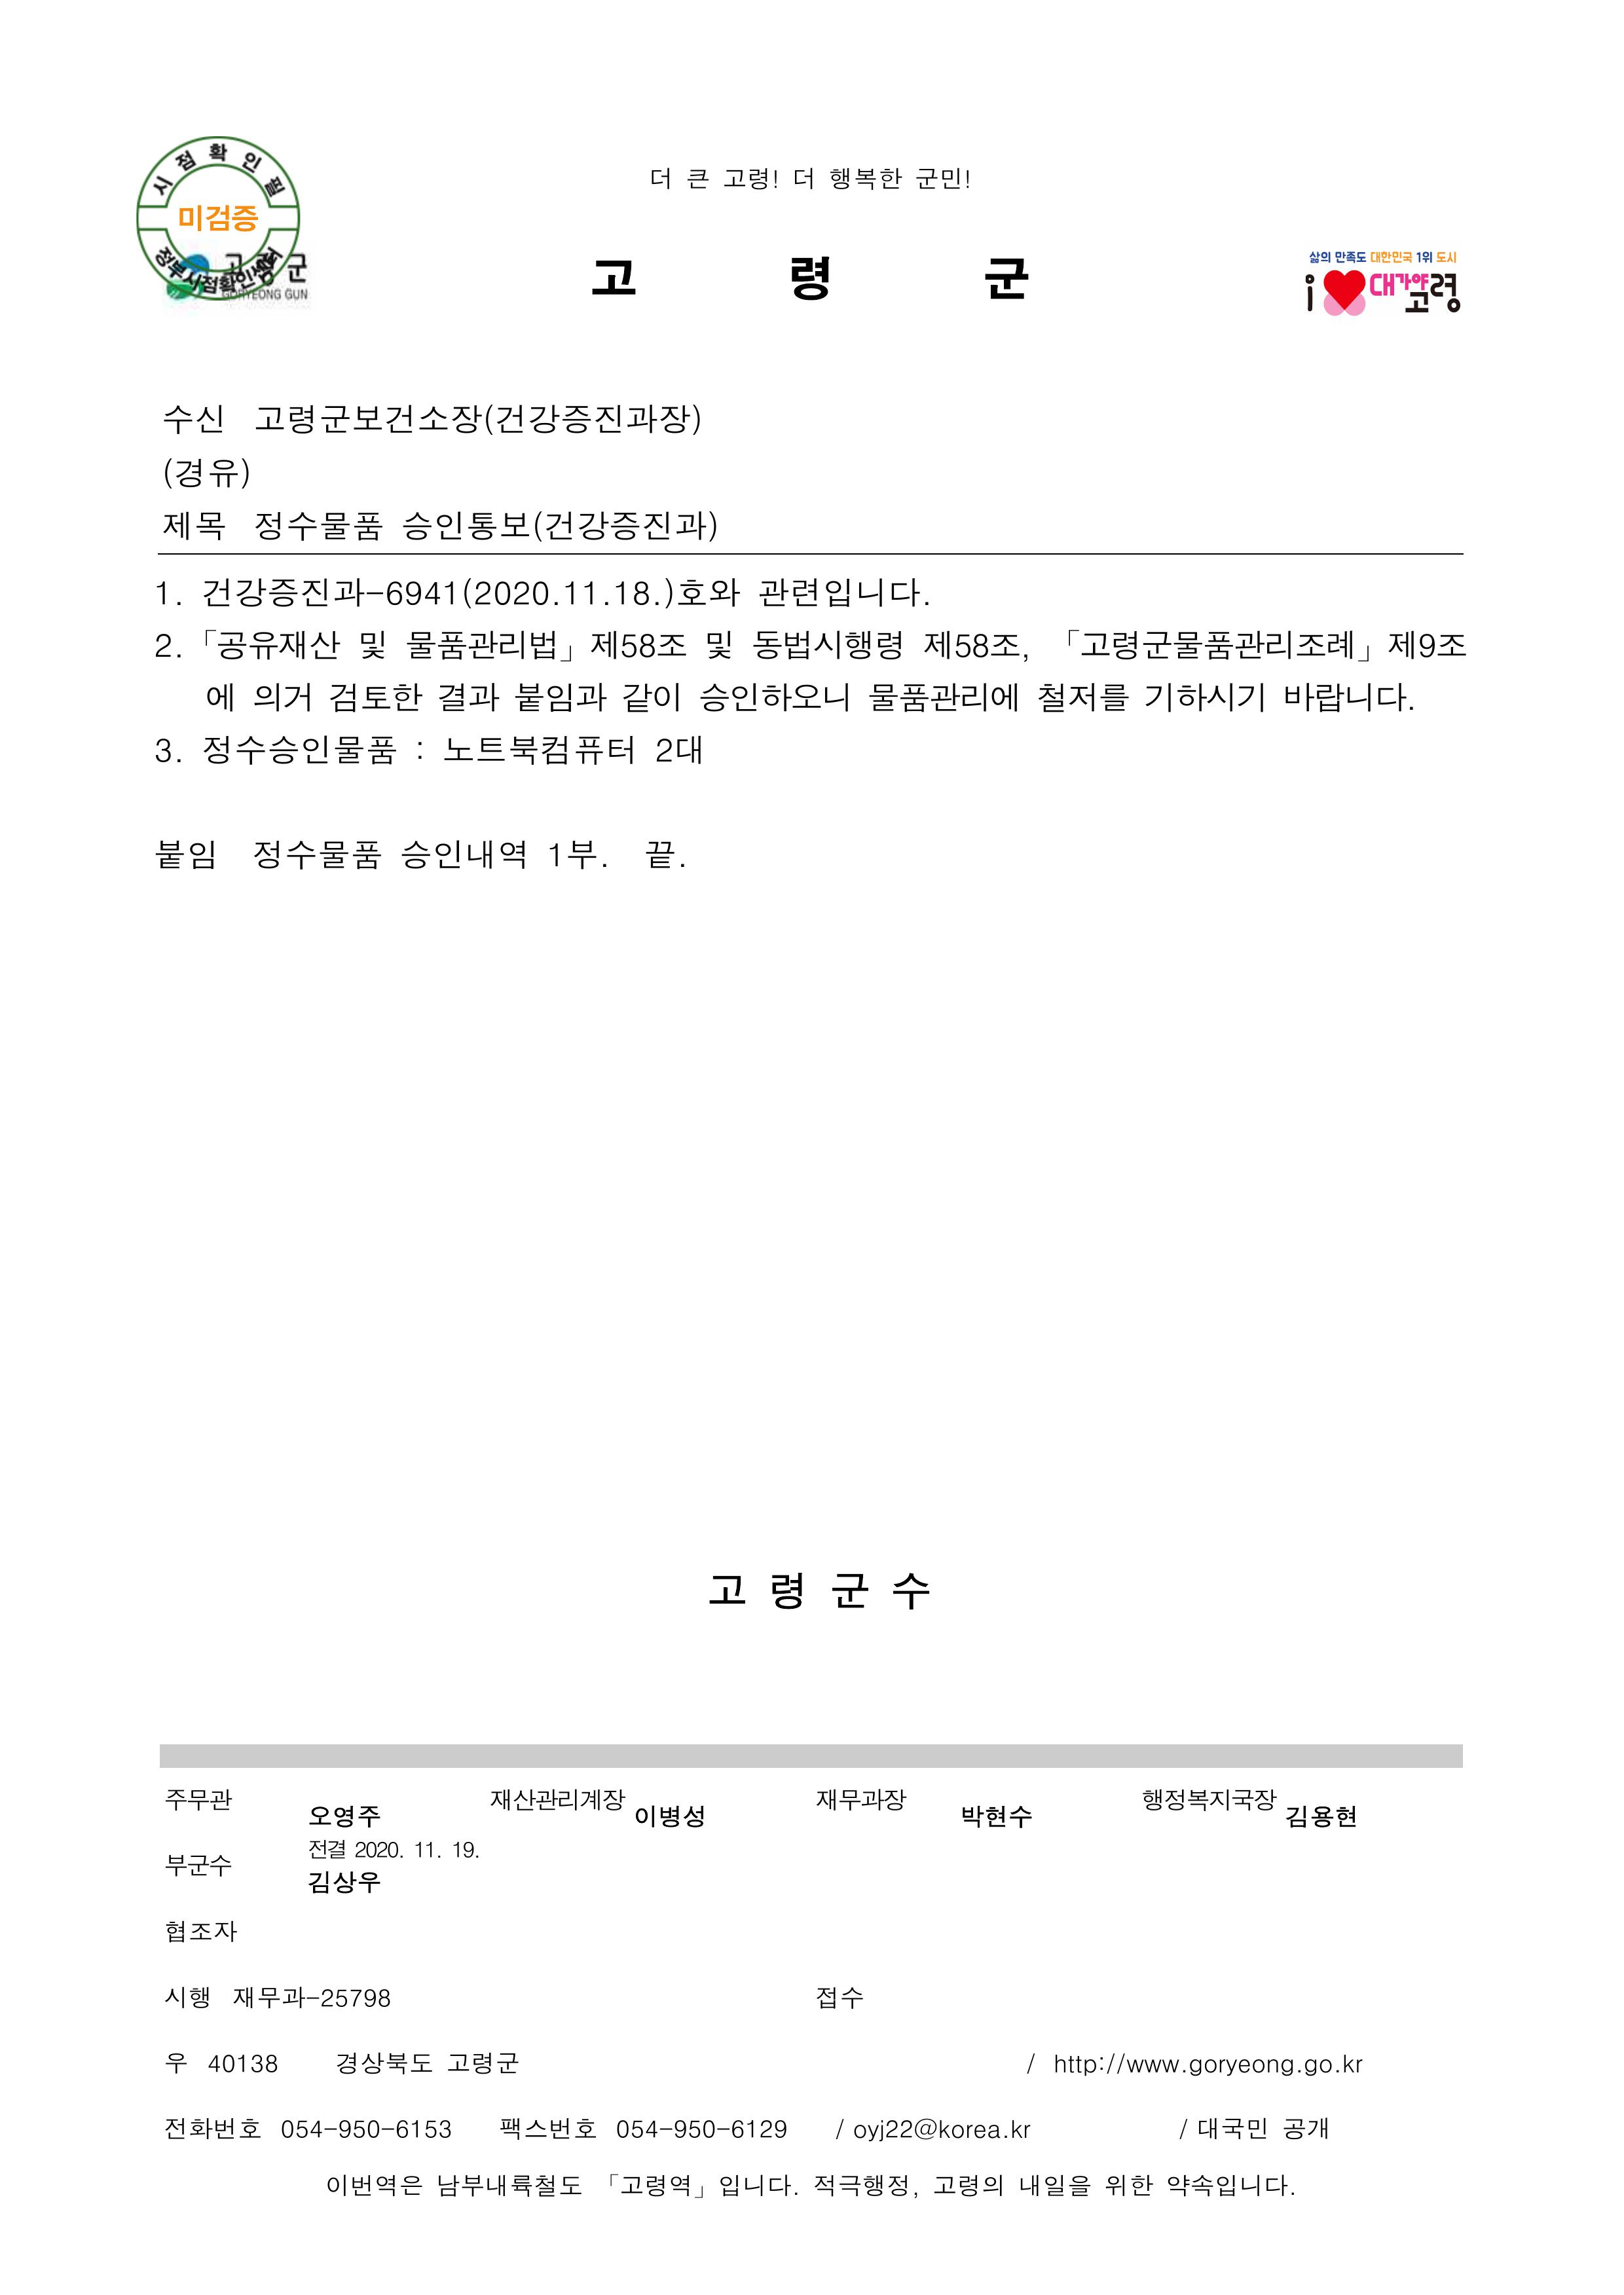t: (255, 401, 703, 438), (397, 506, 721, 545), (1062, 624, 1359, 662), (383, 573, 656, 610), (197, 731, 397, 771), (441, 731, 634, 771), (197, 573, 383, 613), (756, 573, 924, 610), (696, 678, 849, 717), (868, 678, 1021, 717), (404, 627, 562, 662), (749, 627, 903, 662), (251, 835, 383, 875), (786, 255, 893, 304), (397, 835, 527, 875), (1280, 678, 1413, 717), (251, 506, 383, 545), (707, 1571, 817, 1617), (824, 1571, 935, 1617), (434, 2168, 584, 2202), (211, 627, 344, 662), (1162, 2168, 1297, 2202), (1366, 269, 1462, 315), (1141, 678, 1265, 713), (1137, 1785, 1280, 1815), (228, 1987, 394, 2012), (327, 678, 424, 717), (513, 678, 610, 717), (487, 1789, 627, 1815), (279, 2119, 455, 2140), (617, 2119, 789, 2140), (852, 2119, 1000, 2144), (1033, 678, 1125, 717), (589, 627, 689, 662), (810, 2168, 914, 2202), (649, 169, 786, 193), (156, 455, 251, 490), (652, 573, 742, 610), (921, 627, 1025, 659), (176, 200, 262, 237), (334, 2047, 434, 2079), (610, 2172, 710, 2202), (499, 2116, 599, 2144), (1051, 2054, 1183, 2075), (979, 255, 1033, 304), (1280, 1799, 1359, 1833), (717, 2168, 796, 2202), (928, 2168, 1007, 2202), (541, 835, 606, 875), (824, 162, 907, 193), (1383, 627, 1466, 659), (434, 678, 501, 717), (155, 835, 218, 875), (814, 1789, 910, 1815), (327, 2172, 424, 2198), (308, 1799, 383, 1833), (631, 1799, 707, 1833), (958, 1799, 1033, 1833), (1014, 2168, 1090, 2202), (620, 678, 685, 717), (441, 2047, 520, 2079), (589, 255, 642, 300), (162, 401, 227, 438), (162, 2112, 237, 2144), (162, 1782, 232, 1815), (1186, 2058, 1295, 2079), (304, 1868, 380, 1896), (204, 2047, 279, 2075), (1195, 2112, 1271, 2140), (162, 510, 227, 541), (251, 682, 315, 713), (162, 1850, 232, 1879), (1100, 2168, 1155, 2202), (165, 1922, 239, 1947), (652, 731, 703, 766), (914, 165, 975, 193), (162, 1982, 211, 2012), (642, 838, 680, 872), (1283, 2119, 1330, 2144), (817, 1987, 863, 2012), (355, 627, 387, 662), (703, 627, 735, 662), (204, 682, 237, 713), (355, 1840, 404, 1861), (308, 1840, 348, 1861), (1301, 2058, 1338, 2079), (156, 634, 179, 662), (156, 738, 179, 766), (793, 169, 821, 190), (417, 1840, 445, 1861), (452, 1840, 480, 1861), (156, 582, 179, 606), (1007, 2119, 1033, 2140), (239, 2119, 262, 2140), (169, 2051, 186, 2075), (1341, 2058, 1366, 2075), (1369, 251, 1410, 262), (1334, 251, 1366, 262)
